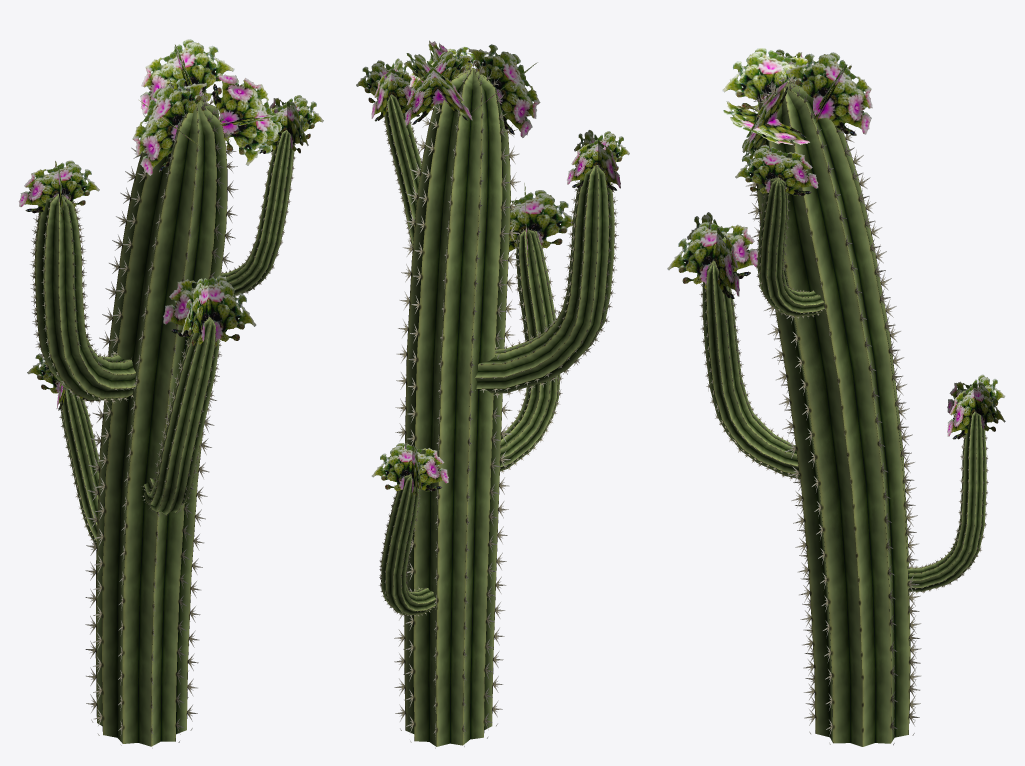
File: Desert_Tree1.FBX
3 views of the same model, side by side, from view 1: azimuth 30°, elevation 25°; view 2: azimuth 150°, elevation 25°; view 3: azimuth 270°, elevation 25° (orthographic). The views are drawn at different scales.
Visible parts, largest first — view 1: Mesh Object; view 2: Mesh Object; view 3: Mesh Object.
Boxes of the visible parts, x1,y1,x2,y2 form: Mesh Object: (18,39,323,748); Mesh Object: (356,40,629,748); Mesh Object: (667,48,1005,746).
Bounding box in the file's own units: 4.48 × 10.32 × 4.61.
